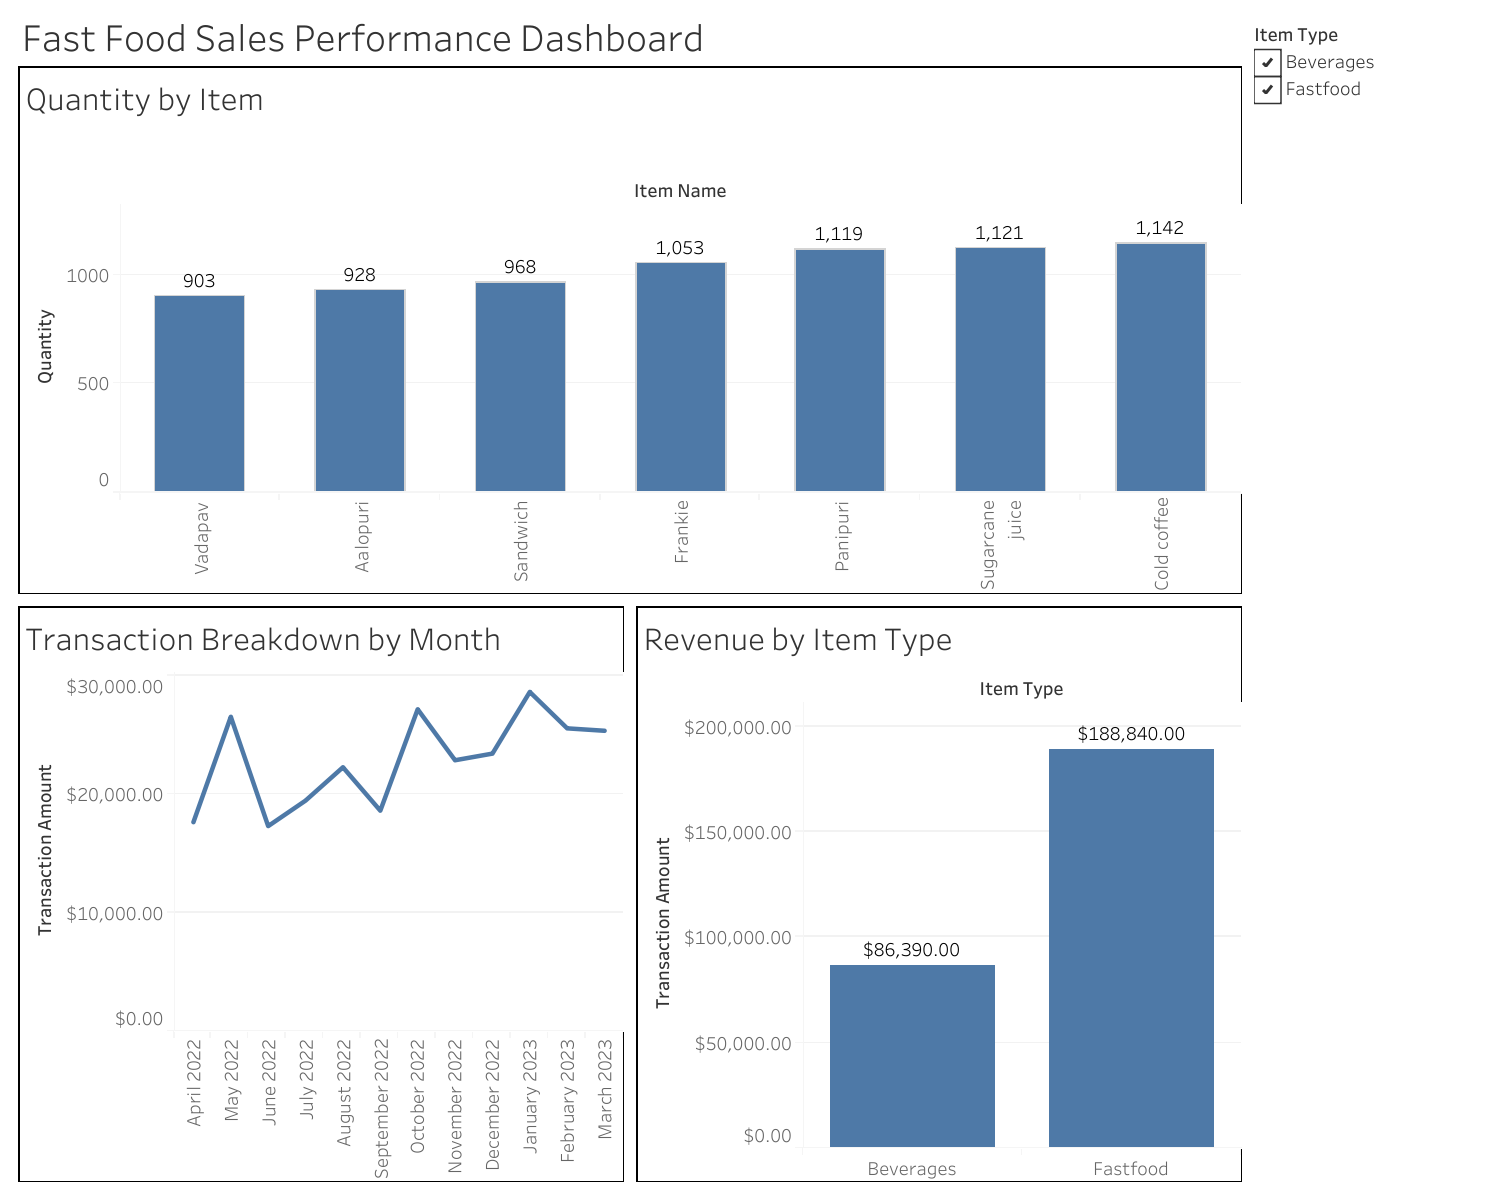

The dashboard page shown, as its layout file describes it:
{"tool":"tableau","page":{"name":"Fast Food Sales Performance Dashboard","canvas":[1000,800],"ordinal":0},"visuals":[{"type":"title","box":[8,8,824,32]},{"type":"filter","title":"Quantity by Item","param":"[federated.1jmo7620a8p3qa1h7r5vp1yx6fq0].[none:item_type:nk]","box":[832,8,160,93]},{"type":"worksheet","title":"Quantity by Item","mark":"Bar","rows":["quantity"],"cols":["item_name"],"box":[8,40,824,360]},{"type":"worksheet","title":"Transaction Breakdown by Month","mark":"Automatic","rows":["transaction_amount "],"cols":["date"],"box":[8,400,412,392]},{"type":"worksheet","title":"Revenue by Item Type","mark":"Automatic","rows":["transaction_amount "],"cols":["item_type"],"box":[420,400,412,392]}]}

Visuals, with their boxes in screenshot pixels (x1, y1, x2, y2), scaled from the page's 1000x800 canvas onto the 1499x1199 screenshot:
title: (x1=12, y1=12, x2=1247, y2=60)
"Quantity by Item" filter: (x1=1247, y1=12, x2=1487, y2=151)
"Quantity by Item" worksheet (Bar marks): (x1=12, y1=60, x2=1247, y2=600)
"Transaction Breakdown by Month" worksheet: (x1=12, y1=600, x2=630, y2=1187)
"Revenue by Item Type" worksheet: (x1=630, y1=600, x2=1247, y2=1187)
